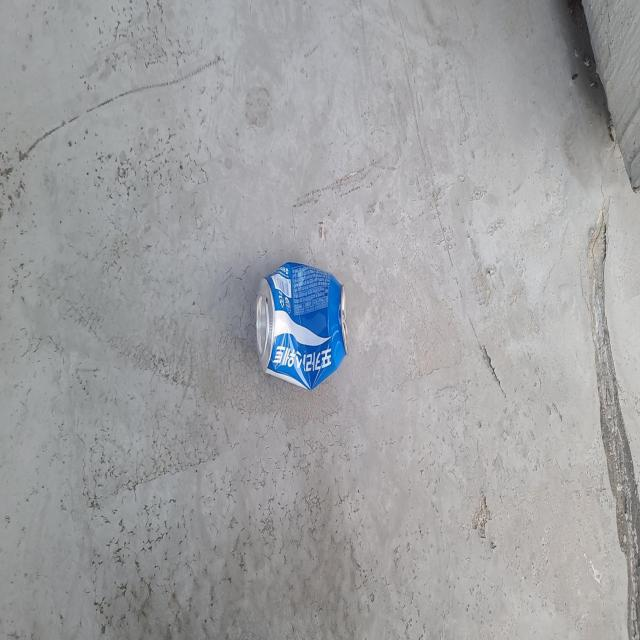can: (256, 261, 348, 390)
